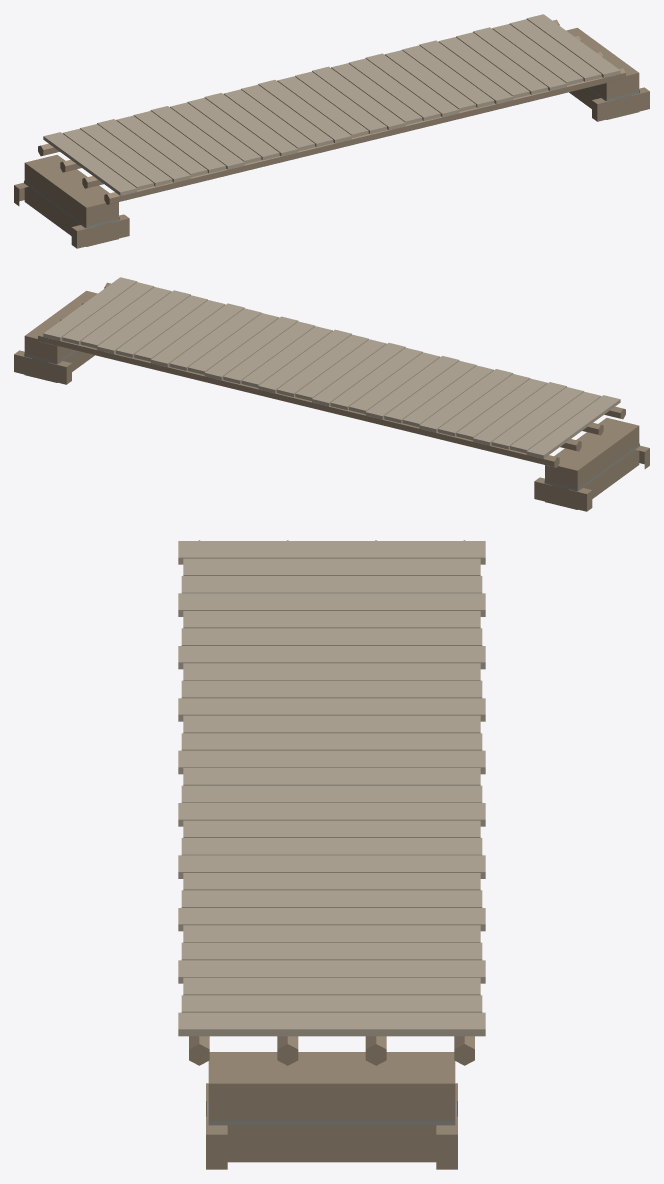
File: north_water_slough_crossing__crossing_1835.glb
3 renders of one model, top to bottom at view 1: azimuth 30°, elevation 25°; view 2: azimuth 150°, elevation 25°; view 3: azimuth 270°, elevation 25°, orthographic. The views are drawn at different scales.
Parts seen in each view (by area): view 1: north_water_slough_crossing__crossing_1835; view 2: north_water_slough_crossing__crossing_1835; view 3: north_water_slough_crossing__crossing_1835.
Part boxes in pixels (x1,y1,x2,y2): north_water_slough_crossing__crossing_1835: (14,14,649,248); north_water_slough_crossing__crossing_1835: (14,277,649,511); north_water_slough_crossing__crossing_1835: (178,540,485,1169).
Size of the model in its own units: 13.72 by 1.23 by 3.19.
